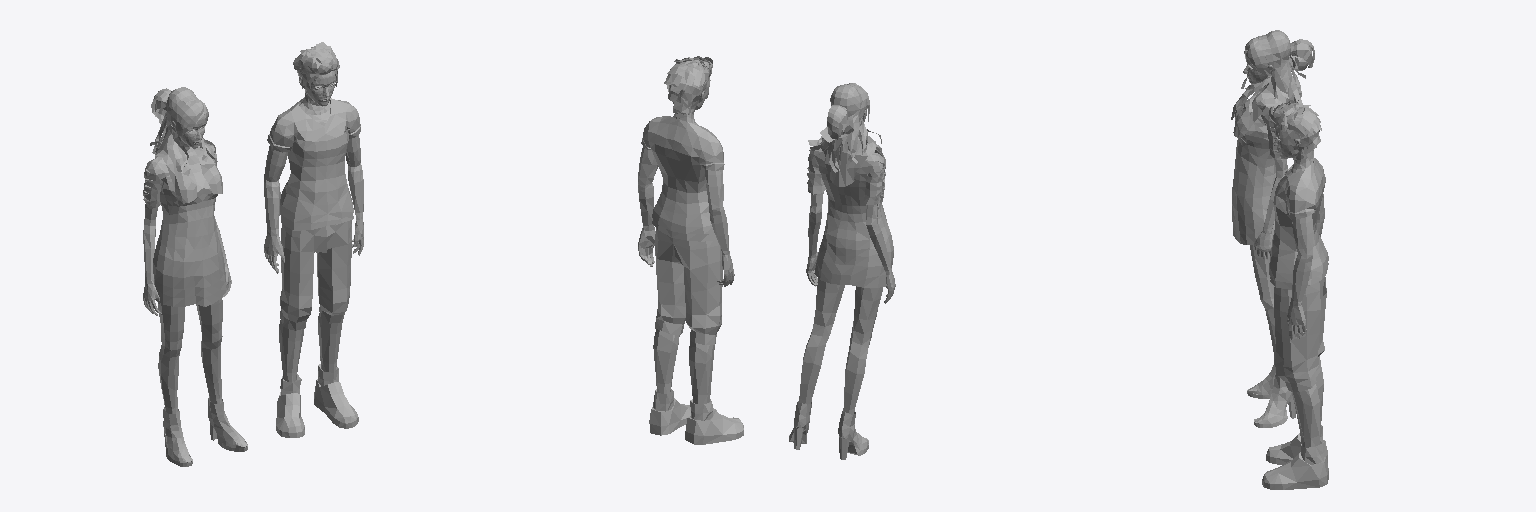
The model's file is man_01.obj.
The picture shows the model from 3 angles: view 1: azimuth 30°, elevation 25°; view 2: azimuth 150°, elevation 25°; view 3: azimuth 270°, elevation 25°; orthographic projection.
Visible parts, largest first — view 1: DrawCall_0321, DrawCall_0280; view 2: DrawCall_0321, DrawCall_0280; view 3: DrawCall_0321, DrawCall_0280.
Boxes of the visible parts, box(x1,y1,x2,y2) form: DrawCall_0321: box(264, 42, 363, 437); DrawCall_0280: box(143, 87, 247, 466); DrawCall_0321: box(638, 56, 743, 444); DrawCall_0280: box(789, 83, 895, 459); DrawCall_0321: box(1262, 100, 1328, 489); DrawCall_0280: box(1231, 30, 1314, 427).
Bounding box in the file's own units: 118 × 179 × 42.35.